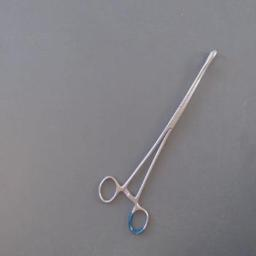Sponge Forceps: (92, 40, 224, 244)
